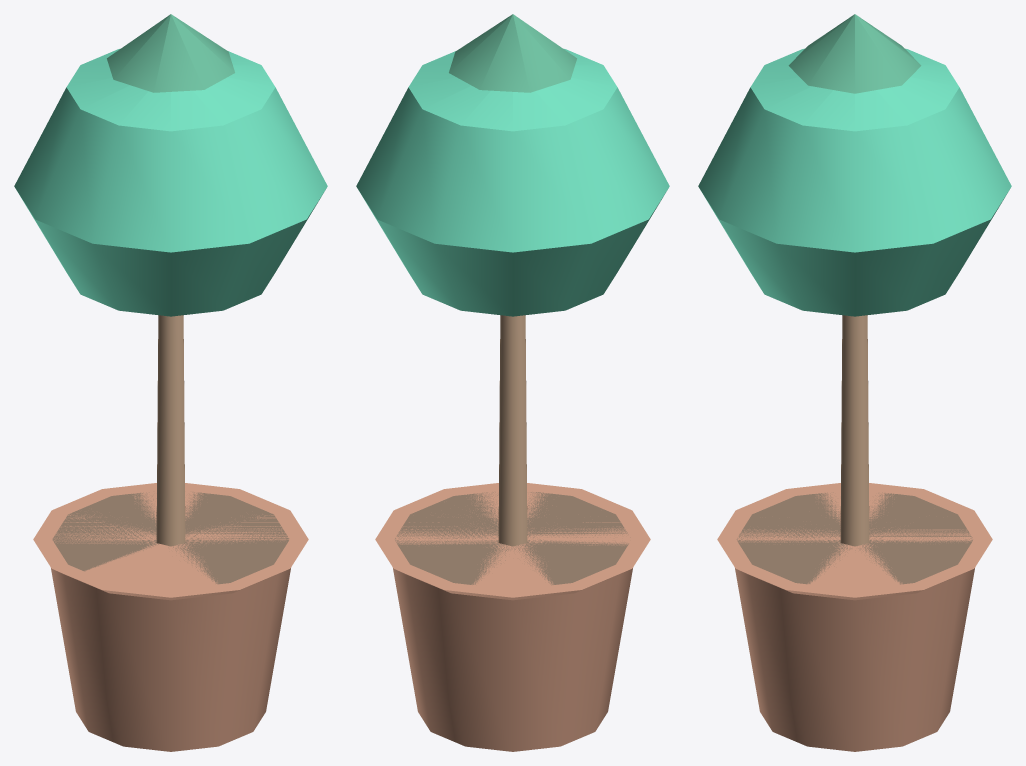
File: gardenTopiary.glb
The picture shows the model from 3 angles, left to right: view 1: azimuth 30°, elevation 25°; view 2: azimuth 150°, elevation 25°; view 3: azimuth 270°, elevation 25°; orthographic projection.
Parts seen in each view (by area): view 1: gardenTopiary; view 2: gardenTopiary; view 3: gardenTopiary.
Boxes of the visible parts, bbox=[...] form: gardenTopiary: bbox=[14, 14, 327, 751]; gardenTopiary: bbox=[356, 14, 669, 751]; gardenTopiary: bbox=[698, 14, 1011, 751].
Bounding box in the file's own units: 0.33 × 0.81 × 0.33.
